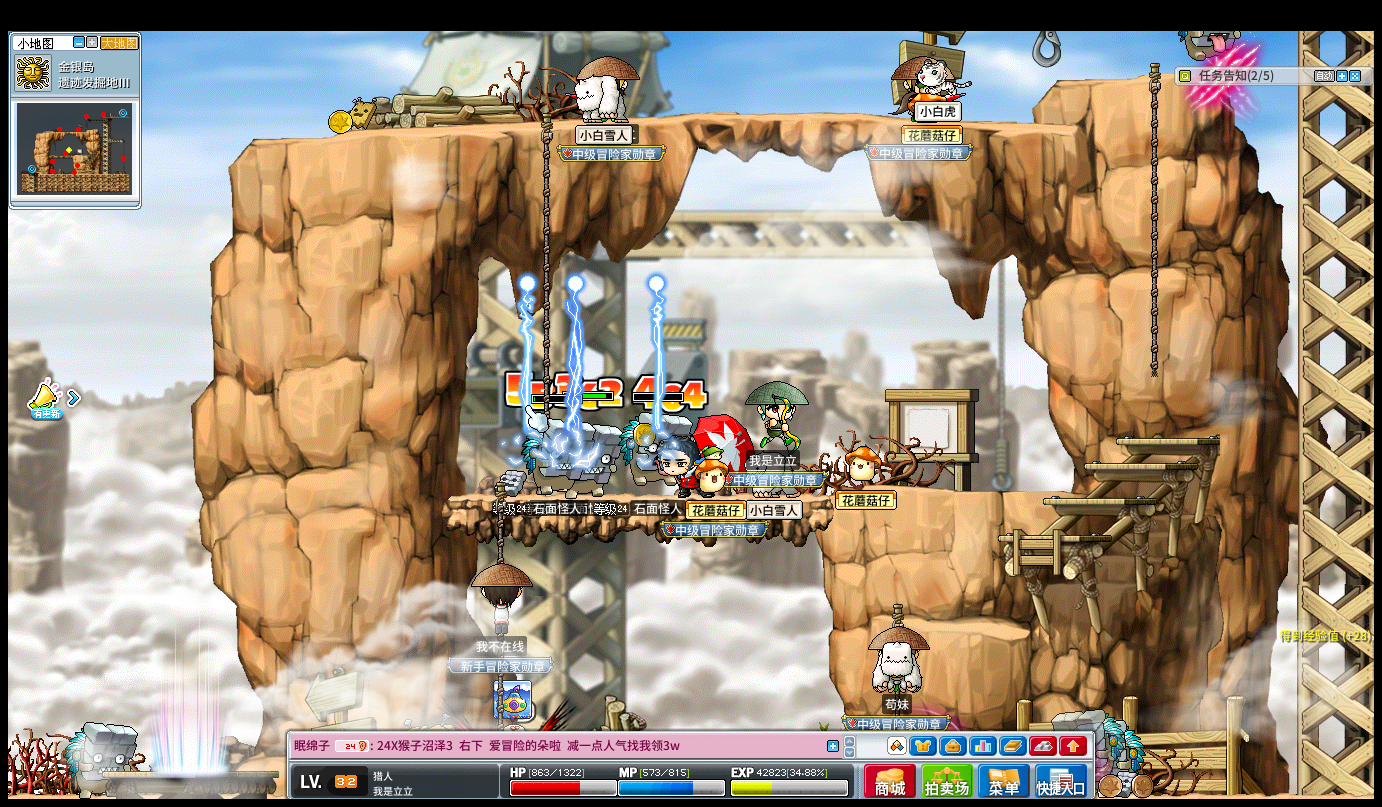floor: (217, 109, 1089, 143), (444, 491, 816, 504), (923, 618, 1030, 639), (909, 487, 1078, 498), (906, 486, 1080, 496), (1053, 72, 1166, 85), (1114, 435, 1221, 447), (1078, 461, 1197, 470), (995, 533, 1108, 542), (1043, 496, 1156, 504)
monster: (524, 419, 619, 495), (555, 421, 624, 495), (622, 413, 691, 486), (523, 419, 589, 495), (64, 721, 135, 791), (1096, 723, 1145, 791)
rope: (1146, 52, 1161, 380), (539, 116, 550, 433), (492, 487, 505, 564)
